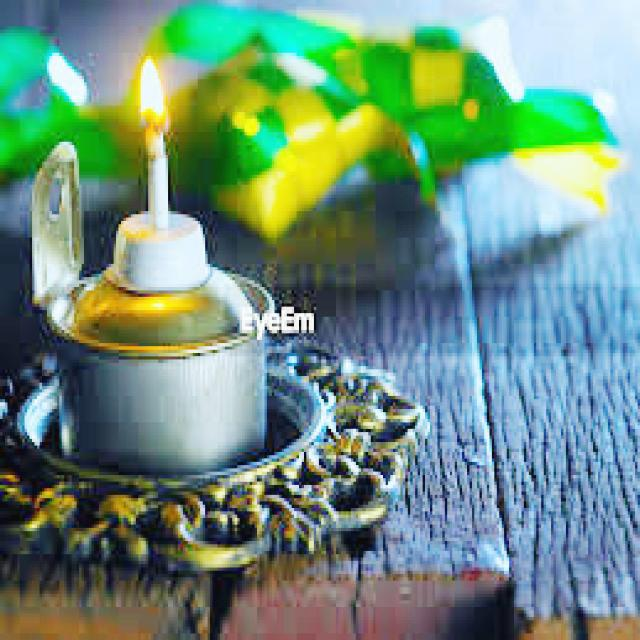api: (130, 47, 169, 143)
